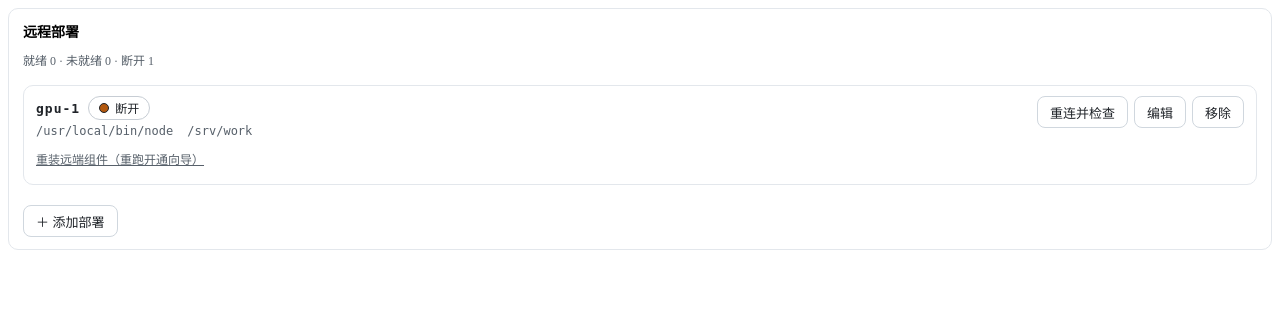
断开重连反馈闭环 + 重装入口 › 复核仍断开 → 行内 status 行「复核完成：仍未连通」+ lastError 更新（零静默）
Click the button with test id "deploy-reconnect" at (1082, 112), box 1037,96 -> 1128,128
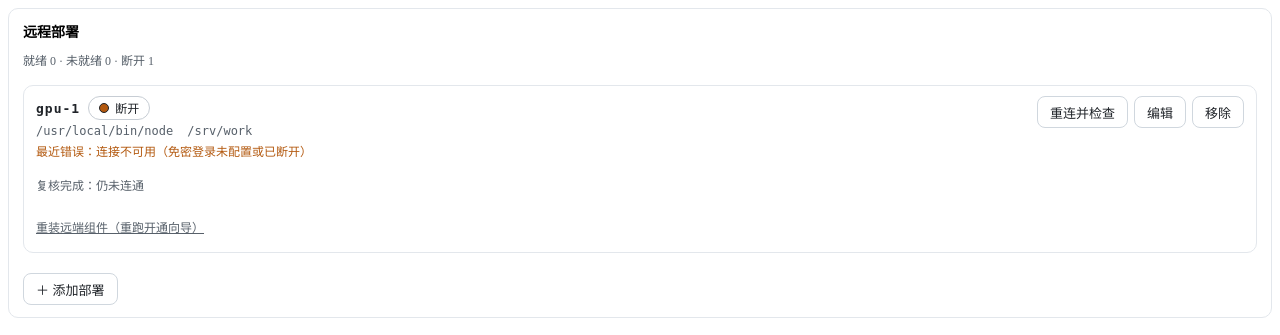
Expected: the text "断开" is shown, 88,96 -> 150,120
Expected: the message with test id "deploy-recheck-note" shows "仍未连通", 36,179 -> 144,193
Expected: the text "最近错误：连接不可用（免密登录未配置或已断开）" is shown, 36,145 -> 312,159
